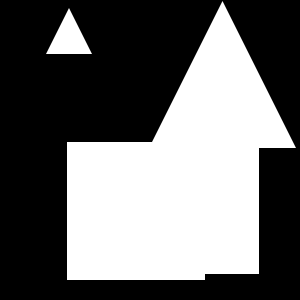circle: (67, 142, 205, 280), (129, 144, 259, 274)
triangle: (149, 1, 296, 148), (46, 8, 92, 54)
